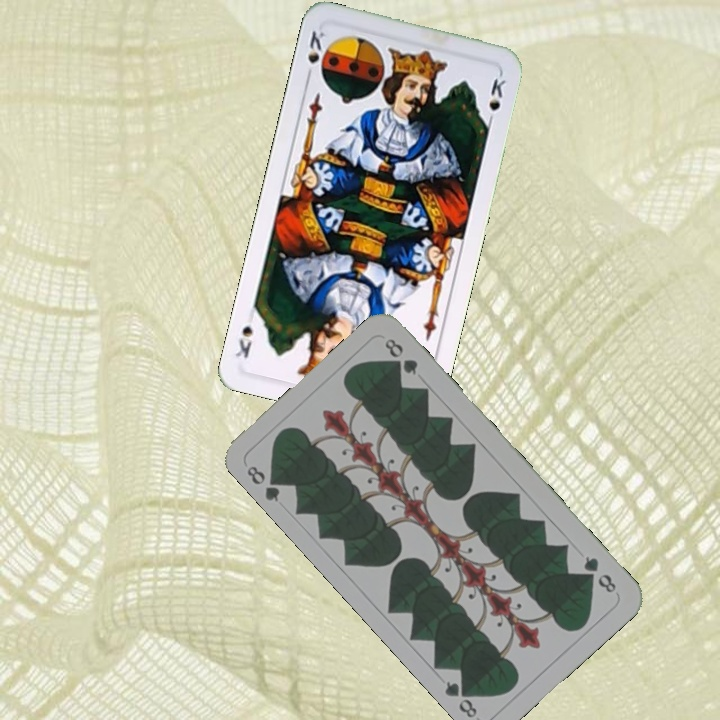G8: (242, 461, 287, 505), (579, 551, 619, 596)
SK: (302, 26, 331, 83)
